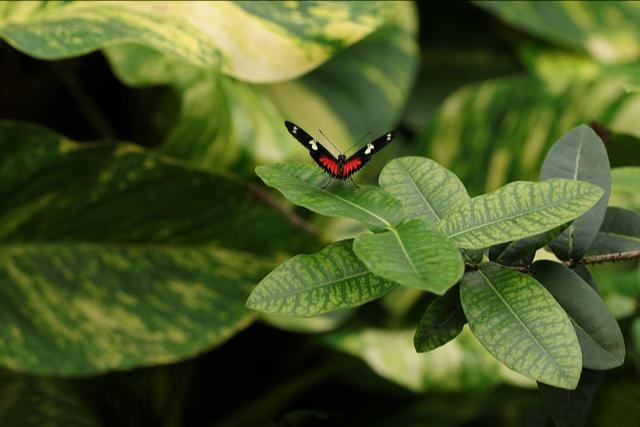Non_Gorille: (11, 1, 639, 410)
